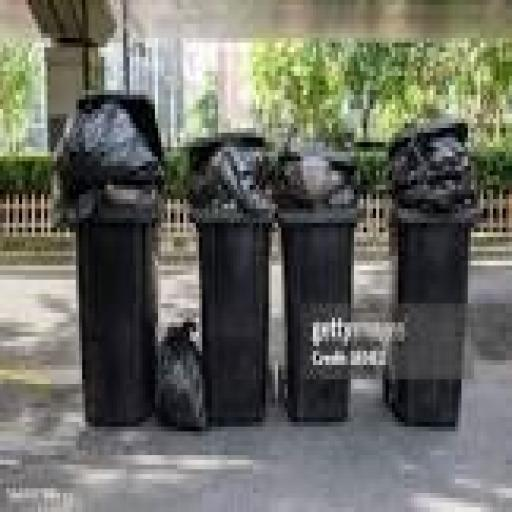poubelle_pleine: (176, 86, 378, 442), (43, 52, 184, 439), (368, 118, 492, 436)
